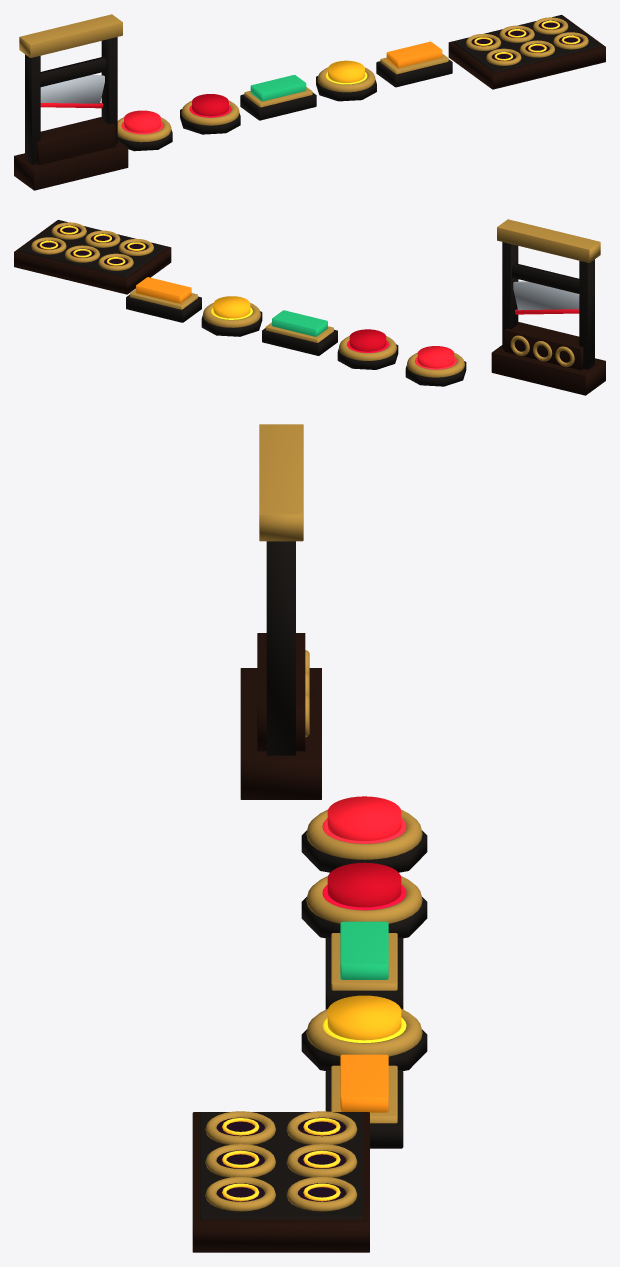
Rendered from diegetic-controls.glb.
3 views of the same model, one above another, from view 1: azimuth 30°, elevation 25°; view 2: azimuth 150°, elevation 25°; view 3: azimuth 270°, elevation 25° (orthographic). The views are drawn at different scales.
Parts seen in each view (by area): view 1: GuillotineStockAssembly, ContrabandRelicSocketRack, GuillotineBlade, BtnMintObols, BtnPayQuota, BtnCycleToken, BtnBloodPact, BtnSlam; view 2: GuillotineStockAssembly, ContrabandRelicSocketRack, GuillotineBlade, BtnPayQuota, BtnMintObols, BtnBloodPact, BtnCycleToken, BtnSlam; view 3: ContrabandRelicSocketRack, GuillotineStockAssembly, BtnSlam, BtnCycleToken, BtnBloodPact, BtnPayQuota, BtnMintObols.
Part boxes in pixels (x1,y1,x2,y2): GuillotineStockAssembly: (14, 14, 128, 190); ContrabandRelicSocketRack: (448, 15, 605, 89); GuillotineBlade: (40, 57, 106, 108); BtnMintObols: (376, 41, 452, 87); BtnPayQuota: (240, 75, 316, 120); BtnCycleToken: (316, 60, 376, 101); BtnBloodPact: (180, 94, 240, 134); BtnSlam: (117, 110, 172, 151); GuillotineStockAssembly: (491, 219, 605, 395); ContrabandRelicSocketRack: (14, 220, 171, 294); GuillotineBlade: (512, 263, 579, 314); BtnPayQuota: (262, 310, 337, 355); BtnMintObols: (126, 277, 201, 322); BtnBloodPact: (337, 329, 398, 369); BtnCycleToken: (201, 296, 262, 336); BtnSlam: (405, 346, 466, 386); ContrabandRelicSocketRack: (192, 1111, 369, 1252); GuillotineStockAssembly: (240, 424, 321, 799); BtnSlam: (301, 796, 427, 872); BtnCycleToken: (301, 995, 427, 1070); BtnBloodPact: (301, 862, 427, 938); BtnPayQuota: (325, 921, 403, 1009); BtnMintObols: (325, 1054, 403, 1148).
Size of the model in its own units: 7 by 1.77 by 1.27.
